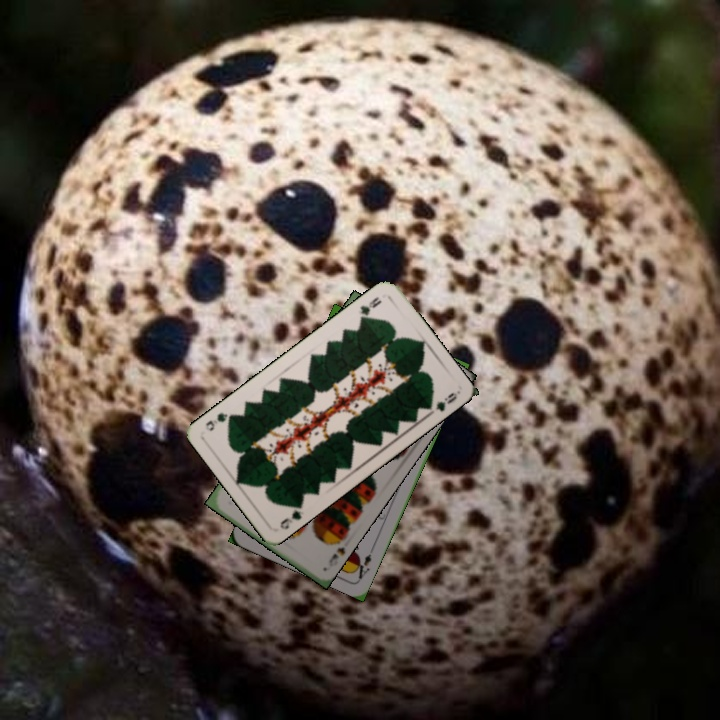EA: (350, 544, 376, 582)
G9: (276, 498, 306, 532), (355, 293, 385, 325)
S9: (324, 532, 349, 569)
